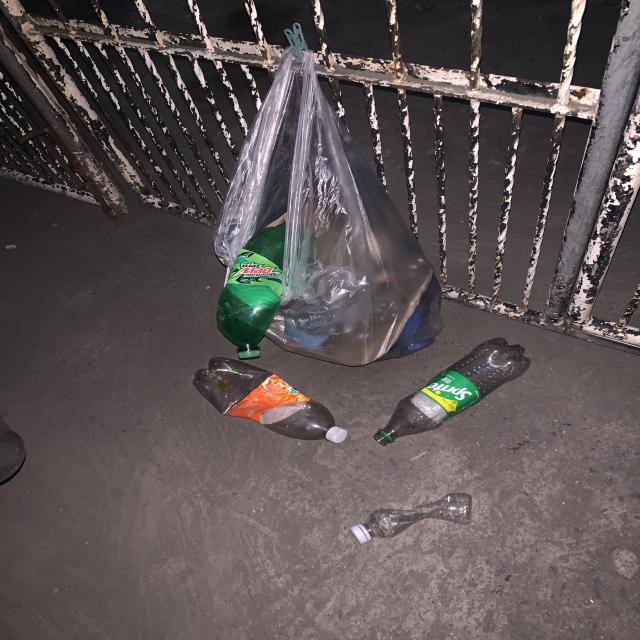Bottle: (374, 338, 530, 445), (193, 357, 347, 443), (350, 492, 472, 544)
